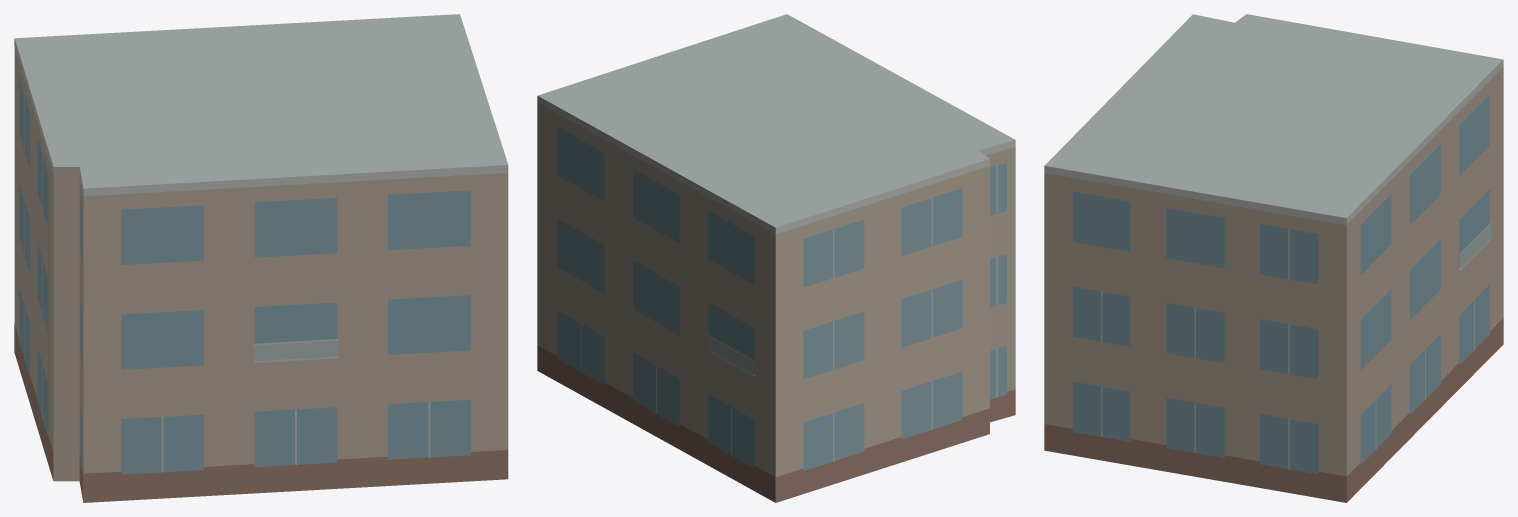
Rendered from survey-upis-32527618.glb.
The picture shows the model from 3 angles, left to right: view 1: azimuth 30°, elevation 25°; view 2: azimuth 150°, elevation 25°; view 3: azimuth 270°, elevation 25°; orthographic projection. The views are drawn at different scales.
Parts seen in each view (by area): view 1: survey-upis-32527618.tmp; view 2: survey-upis-32527618.tmp; view 3: survey-upis-32527618.tmp.
Part boxes in pixels (box(x1,y1,x2,y2)): survey-upis-32527618.tmp: box(14, 14, 508, 502); survey-upis-32527618.tmp: box(537, 14, 1015, 502); survey-upis-32527618.tmp: box(1044, 14, 1503, 502).
Bounding box in the file's own units: 15.07 × 9.8 × 14.33.
